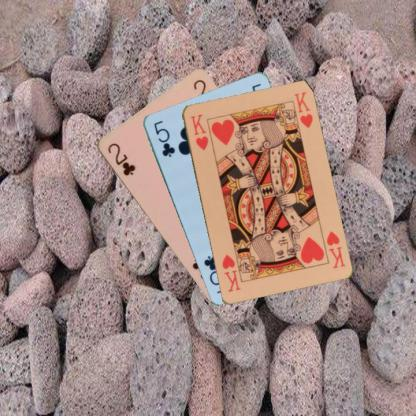2c: (105, 140, 136, 177)
5c: (151, 118, 176, 158)
Kh: (324, 228, 346, 270), (188, 111, 210, 151)
